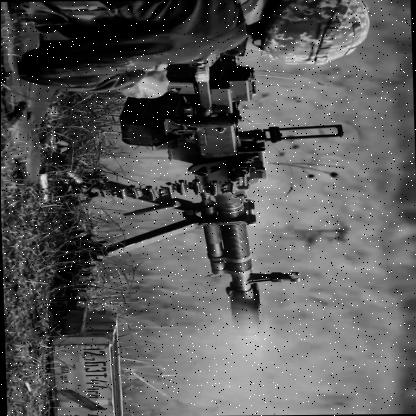rifle: (168, 76, 282, 330)
